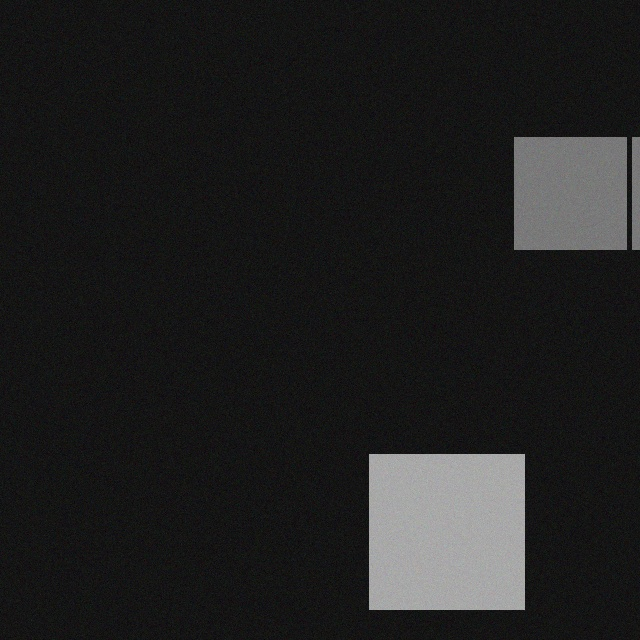square: (379, 462, 534, 617), (524, 145, 636, 257)
